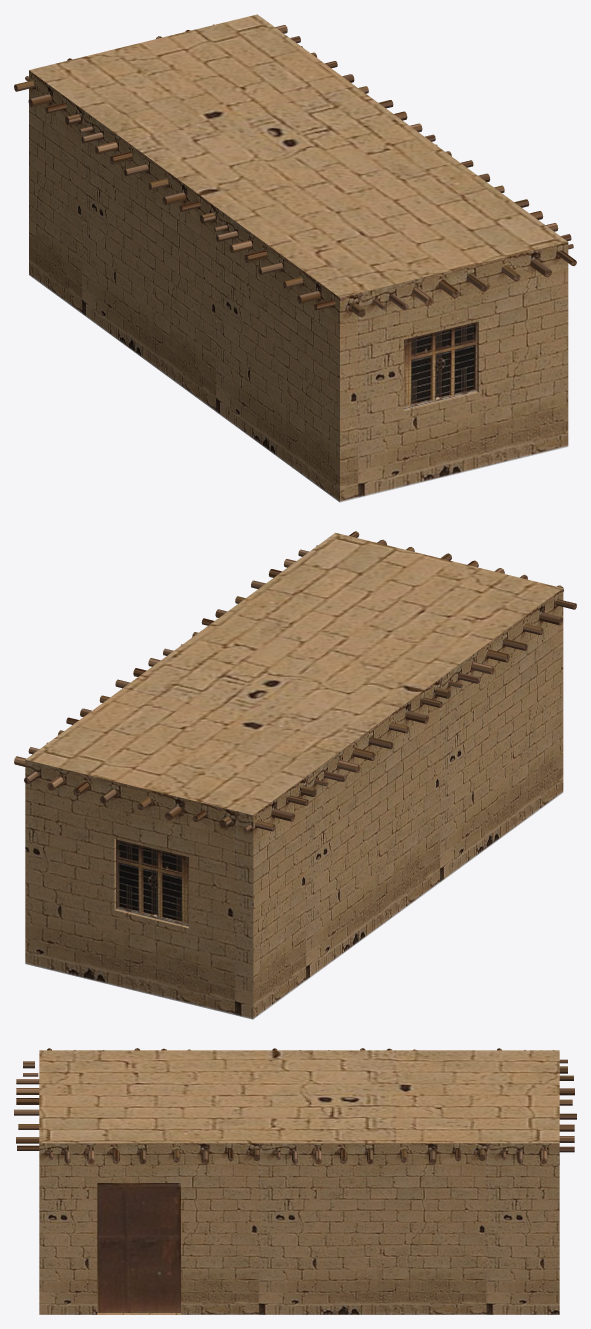
File: home1.fbx
The picture shows the model from 3 angles, top to bottom: view 1: azimuth 30°, elevation 25°; view 2: azimuth 150°, elevation 25°; view 3: azimuth 270°, elevation 25°; orthographic projection. The views are drawn at different scales.
Parts seen in each view (by area): view 1: home1; view 2: home1; view 3: home1.
Part boxes in pixels (<box>): home1: <box>14,14,576,502</box>; home1: <box>14,531,576,1019</box>; home1: <box>14,1048,576,1314</box>.
Bounding box in the file's own units: 276 × 200 × 595.
Materials: 1 (1 with a texture image).
